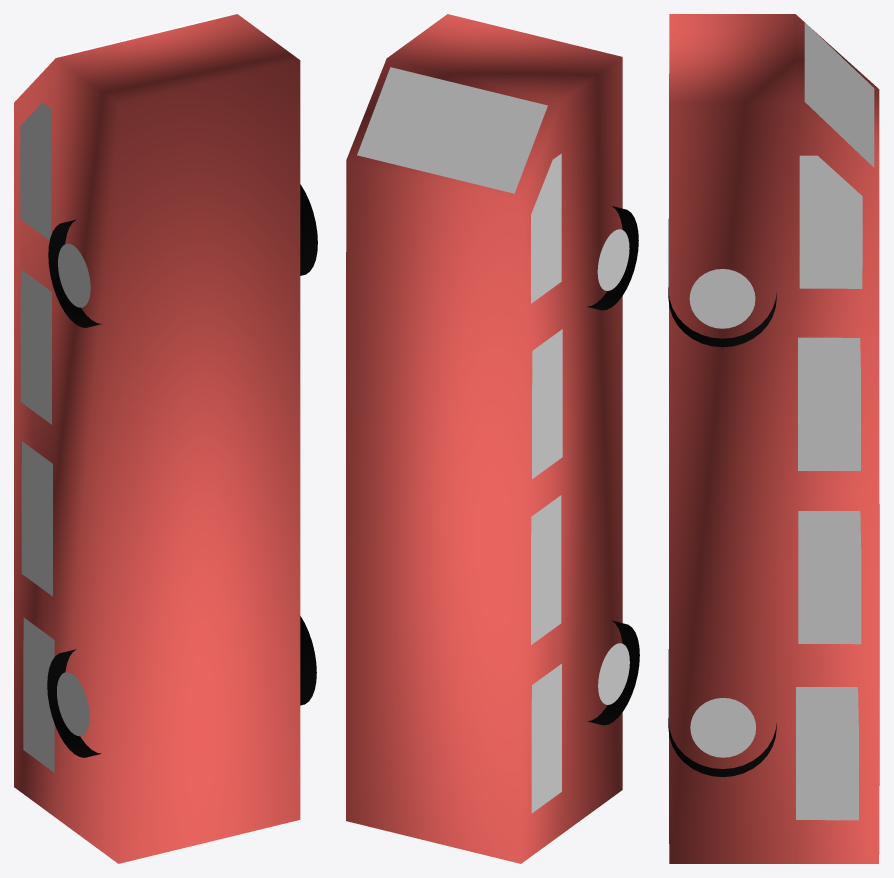
Rendered from Trial.gltf.
The picture shows the model from 3 angles, left to right: view 1: azimuth 30°, elevation 25°; view 2: azimuth 150°, elevation 25°; view 3: azimuth 270°, elevation 25°; orthographic projection. The views are drawn at different scales.
Visible parts, largest first — view 1: Node1, Node10, Node11, Node12, Node8, Node3, Node2, Node4, Node5; view 2: Node1, Node16, Node10, Node11, Node12, Node8, Node4, Node2, Node5, Node3; view 3: Node1, Node14, Node15, Node13, Node9, Node16, Node7, Node6, Node3, Node2.
Boxes of the visible parts, <box> form: Node1: <box>14,14,300,863</box>; Node10: <box>20,269,51,424</box>; Node11: <box>21,441,52,596</box>; Node12: <box>23,617,54,772</box>; Node8: <box>20,102,51,240</box>; Node3: <box>48,184,317,327</box>; Node2: <box>47,616,316,757</box>; Node4: <box>58,243,90,307</box>; Node5: <box>57,672,89,736</box>; Node1: <box>346,14,622,863</box>; Node16: <box>357,67,547,193</box>; Node10: <box>532,329,562,478</box>; Node11: <box>531,495,561,644</box>; Node12: <box>531,663,561,813</box>; Node8: <box>531,153,561,303</box>; Node4: <box>597,229,629,290</box>; Node2: <box>587,620,639,725</box>; Node5: <box>598,643,629,704</box>; Node3: <box>587,206,638,310</box>; Node1: <box>669,14,879,863</box>; Node14: <box>798,511,861,644</box>; Node15: <box>798,337,860,470</box>; Node13: <box>796,687,858,820</box>; Node9: <box>799,155,862,288</box>; Node16: <box>804,22,874,167</box>; Node7: <box>689,269,755,328</box>; Node6: <box>690,698,755,757</box>; Node3: <box>668,219,776,347</box>; Node2: <box>668,649,776,776</box>.
Size of the model in its own units: 2.41 by 8 by 2.01.
